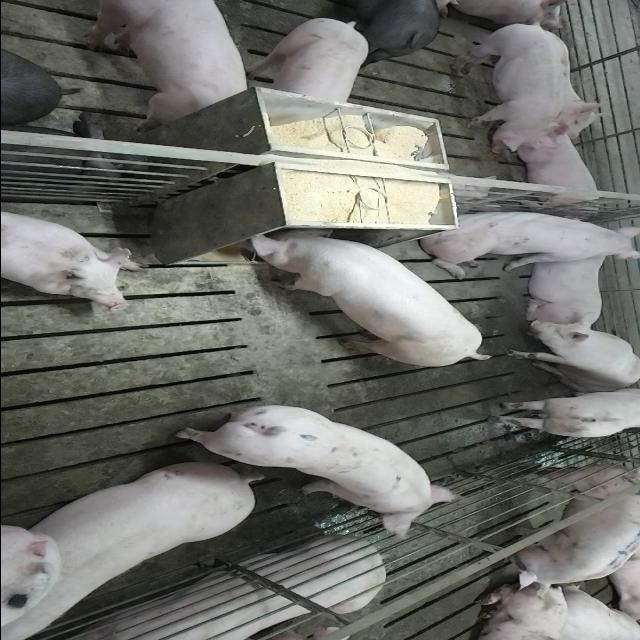Feeding: (244, 220, 494, 364)
Sitting: (412, 205, 636, 272), (506, 319, 640, 392)
Standing: (6, 458, 266, 634), (170, 404, 462, 542), (74, 1, 254, 126), (505, 461, 640, 592), (451, 18, 562, 156), (240, 16, 368, 106), (482, 387, 638, 441), (314, 0, 453, 55)
Sternal_lying: (64, 539, 382, 640), (0, 205, 138, 307), (505, 131, 605, 213), (518, 246, 608, 328), (536, 75, 610, 140)
